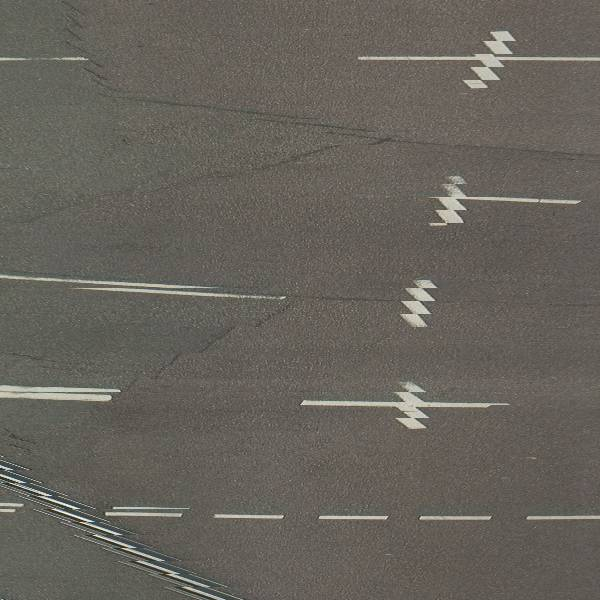road_damage: (136, 93, 549, 154), (130, 302, 298, 386)
